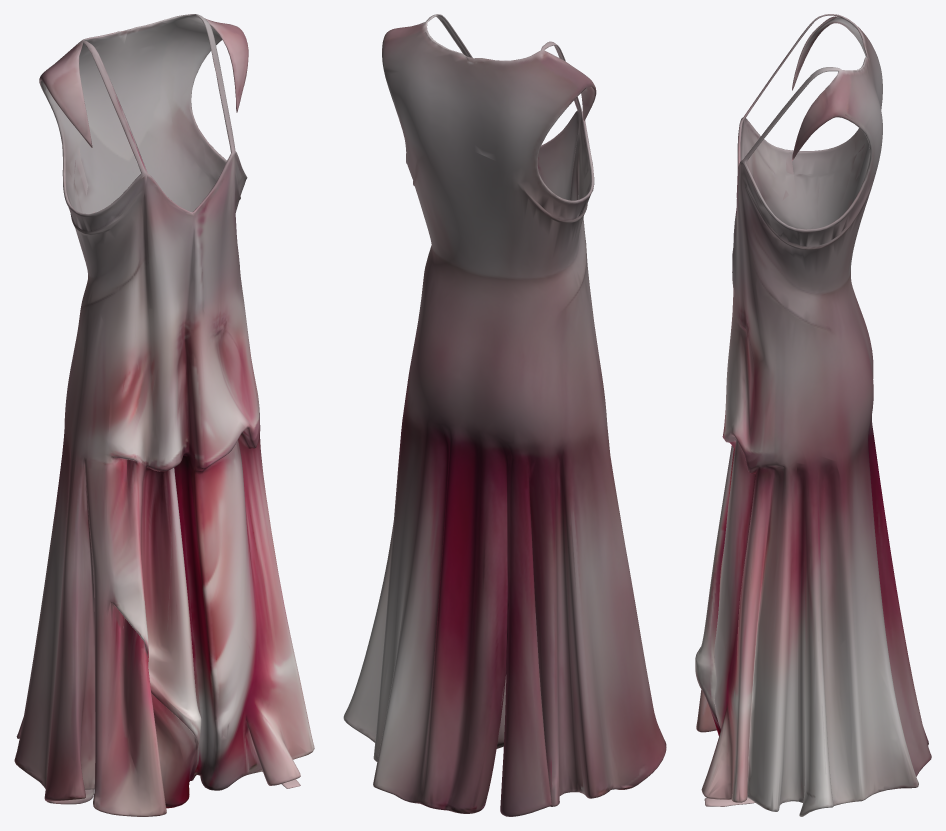
File: dress-pink.glb
3 renders of one model, left to right at view 1: azimuth 30°, elevation 25°; view 2: azimuth 150°, elevation 25°; view 3: azimuth 270°, elevation 25°, orthographic. The views are drawn at different scales.
Parts seen in each view (by area): view 1: node_0; view 2: node_0; view 3: node_0.
Part boxes in pixels (bbox=[...]): node_0: bbox=[14, 14, 314, 816]; node_0: bbox=[343, 14, 666, 816]; node_0: bbox=[695, 14, 931, 816].
Size of the model in its own units: 0.4449 by 1.14 by 0.3358.
Materials: 1 (1 with a texture image).
